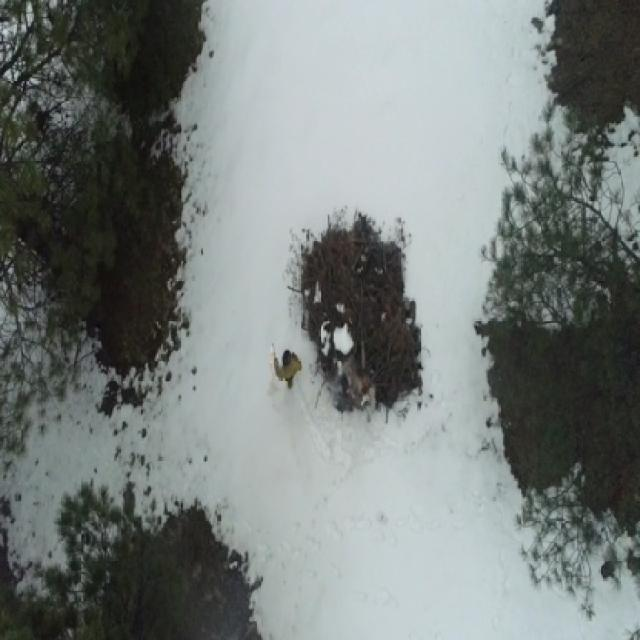Fire: (351, 378, 374, 393)
